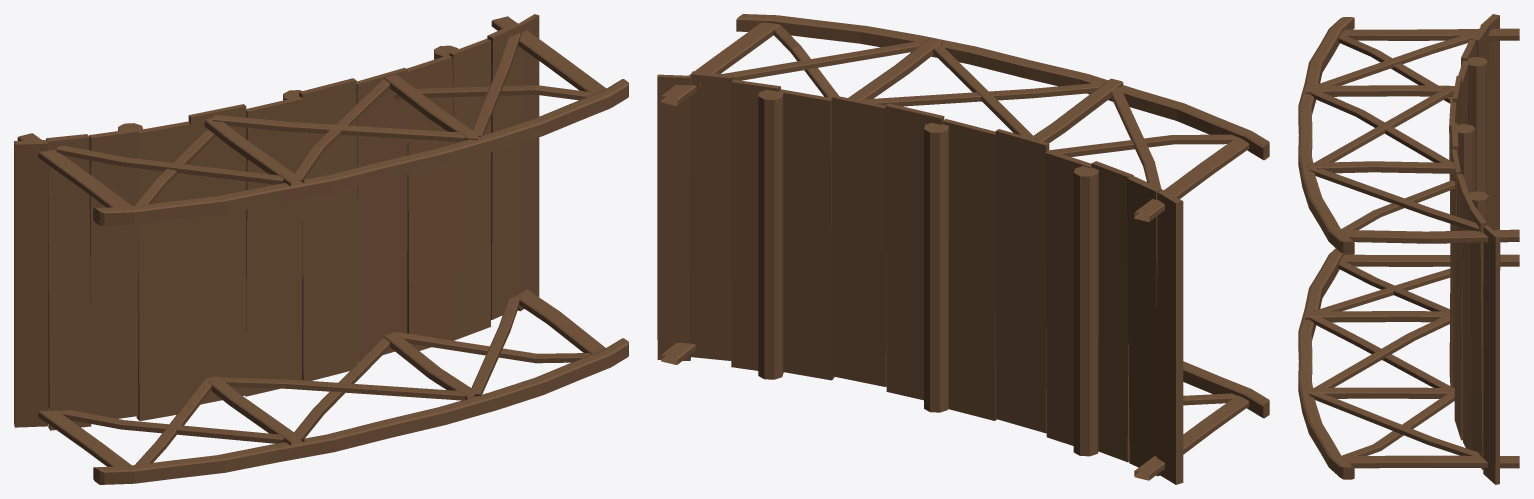
The model's file is Bridge_05.fbx.
3 renders of one model, left to right at view 1: azimuth 30°, elevation 25°; view 2: azimuth 150°, elevation 25°; view 3: azimuth 270°, elevation 25°, orthographic. The views are drawn at different scales.
Visible parts, largest first — view 1: bridge_2.003; view 2: bridge_2.003; view 3: bridge_2.003.
Boxes of the visible parts, x1,y1,x2,y2 form: bridge_2.003: (14, 14, 628, 484); bridge_2.003: (657, 14, 1269, 484); bridge_2.003: (1298, 14, 1519, 484).
Size of the model in its own units: 372 by 197 by 155.
